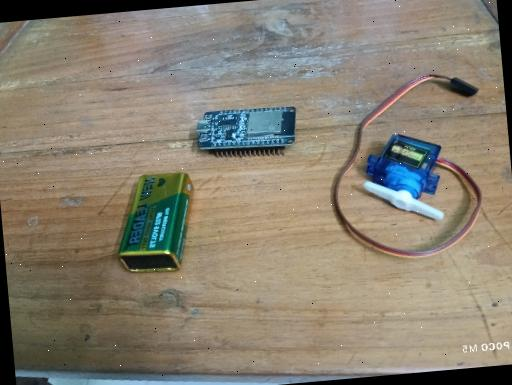Battery: (111, 168, 200, 276)
Esp32: (194, 102, 299, 163)
Motor: (358, 128, 448, 226)
